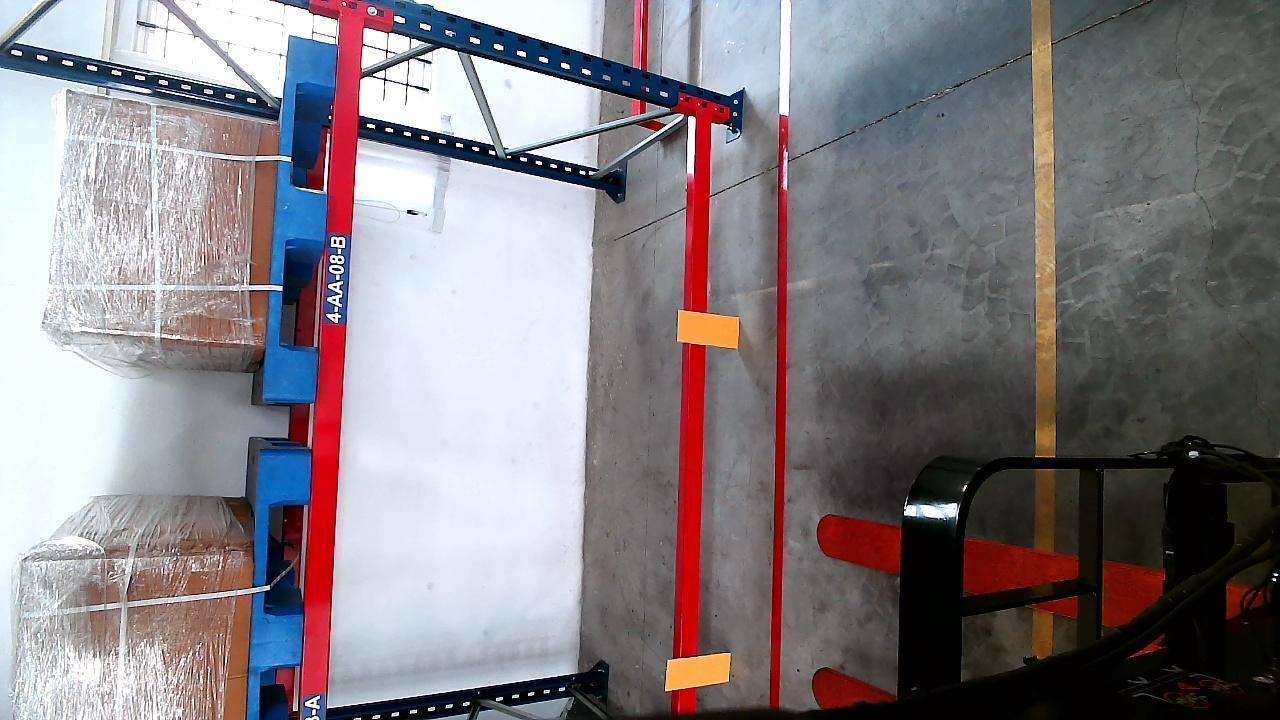h_rack: (300, 13, 363, 718), (677, 110, 712, 718)
orange_strip: (664, 651, 732, 691), (680, 311, 741, 347)
red_line: (765, 17, 795, 709)
small_pallet: (267, 31, 335, 402), (249, 455, 310, 720)
yellow_line: (1033, 2, 1060, 469)
